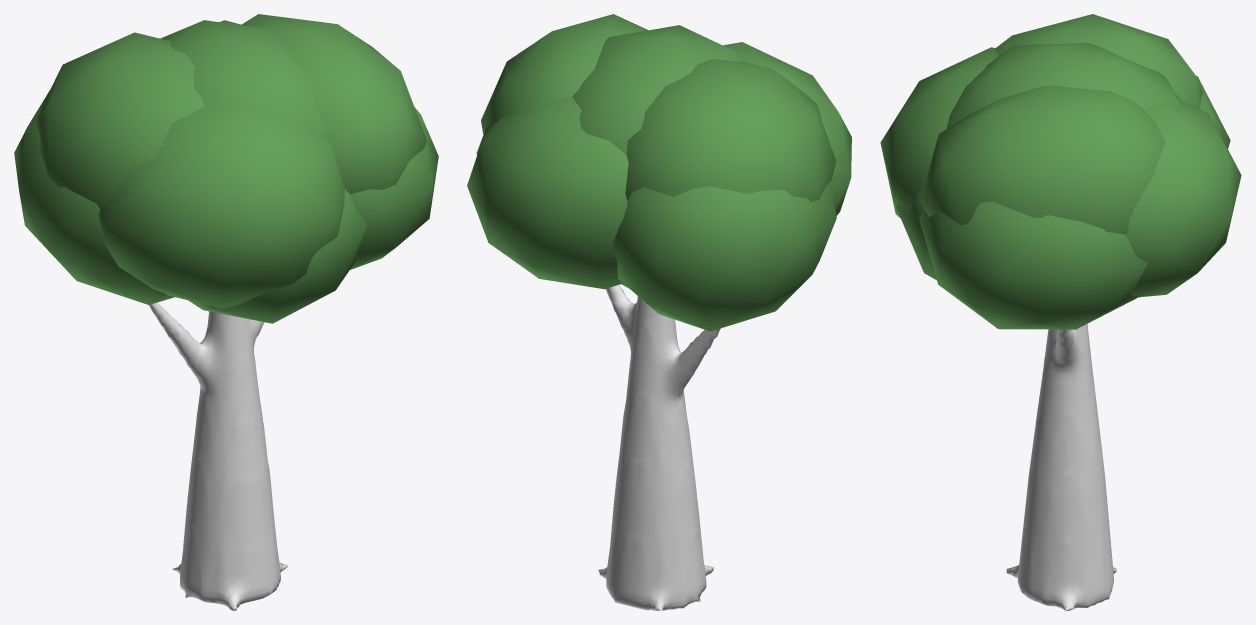
The model's file is NaturalTree_01_Round.fbx.
3 views of the same model, side by side, from view 1: azimuth 30°, elevation 25°; view 2: azimuth 150°, elevation 25°; view 3: azimuth 270°, elevation 25° (orthographic). The views are drawn at different scales.
Visible parts, largest first — view 1: Foliage_03, Trunk, Foliage_01, Foliage_02, Foliage_00, Foliage_05, Foliage_06, Foliage_07; view 2: Foliage_05, Trunk, Foliage_04, Foliage_01, Foliage_00, Foliage_02, Foliage_03; view 3: Foliage_02, Foliage_06, Trunk, Foliage_04, Foliage_00, Foliage_03, Foliage_01, Foliage_07, Foliage_05.
Part boxes in pixels (bbox=[...]): Foliage_03: bbox=[98, 103, 344, 308]; Trunk: bbox=[148, 302, 288, 610]; Foliage_01: bbox=[36, 32, 204, 209]; Foliage_02: bbox=[241, 14, 426, 194]; Foliage_00: bbox=[160, 20, 325, 136]; Foliage_05: bbox=[14, 90, 174, 304]; Foliage_06: bbox=[350, 107, 438, 269]; Foliage_07: bbox=[188, 189, 366, 323]; Foliage_05: bbox=[613, 180, 836, 331]; Trunk: bbox=[598, 285, 720, 610]; Foliage_04: bbox=[467, 97, 628, 289]; Foliage_01: bbox=[625, 59, 835, 202]; Foliage_00: bbox=[572, 25, 746, 154]; Foliage_02: bbox=[481, 14, 647, 135]; Foliage_03: bbox=[723, 42, 851, 215]; Foliage_02: bbox=[920, 85, 1165, 234]; Foliage_06: bbox=[919, 201, 1147, 329]; Trunk: bbox=[1006, 324, 1116, 610]; Foliage_04: bbox=[1126, 100, 1241, 297]; Foliage_00: bbox=[946, 42, 1181, 128]; Foliage_03: bbox=[880, 47, 998, 217]; Foliage_01: bbox=[995, 14, 1202, 108]; Foliage_07: bbox=[896, 190, 936, 280]; Foliage_05: bbox=[1196, 75, 1230, 148].
Bounding box in the file's own units: 1.95 × 2.9 × 1.76.
